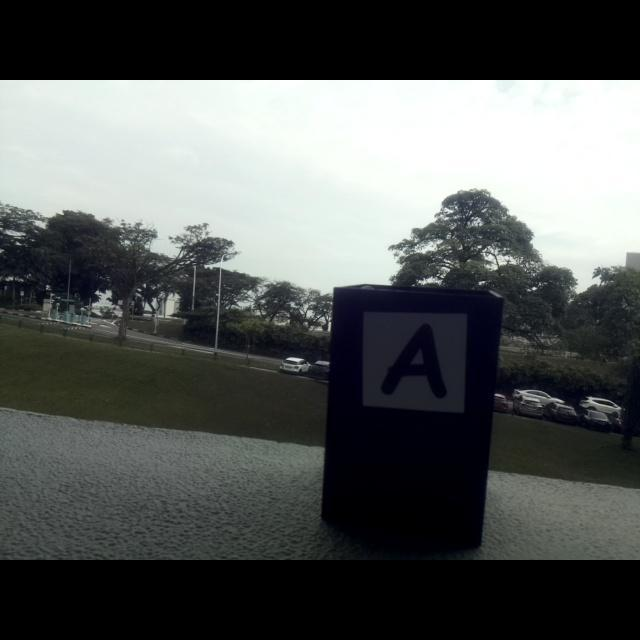A: (381, 324, 447, 399)
